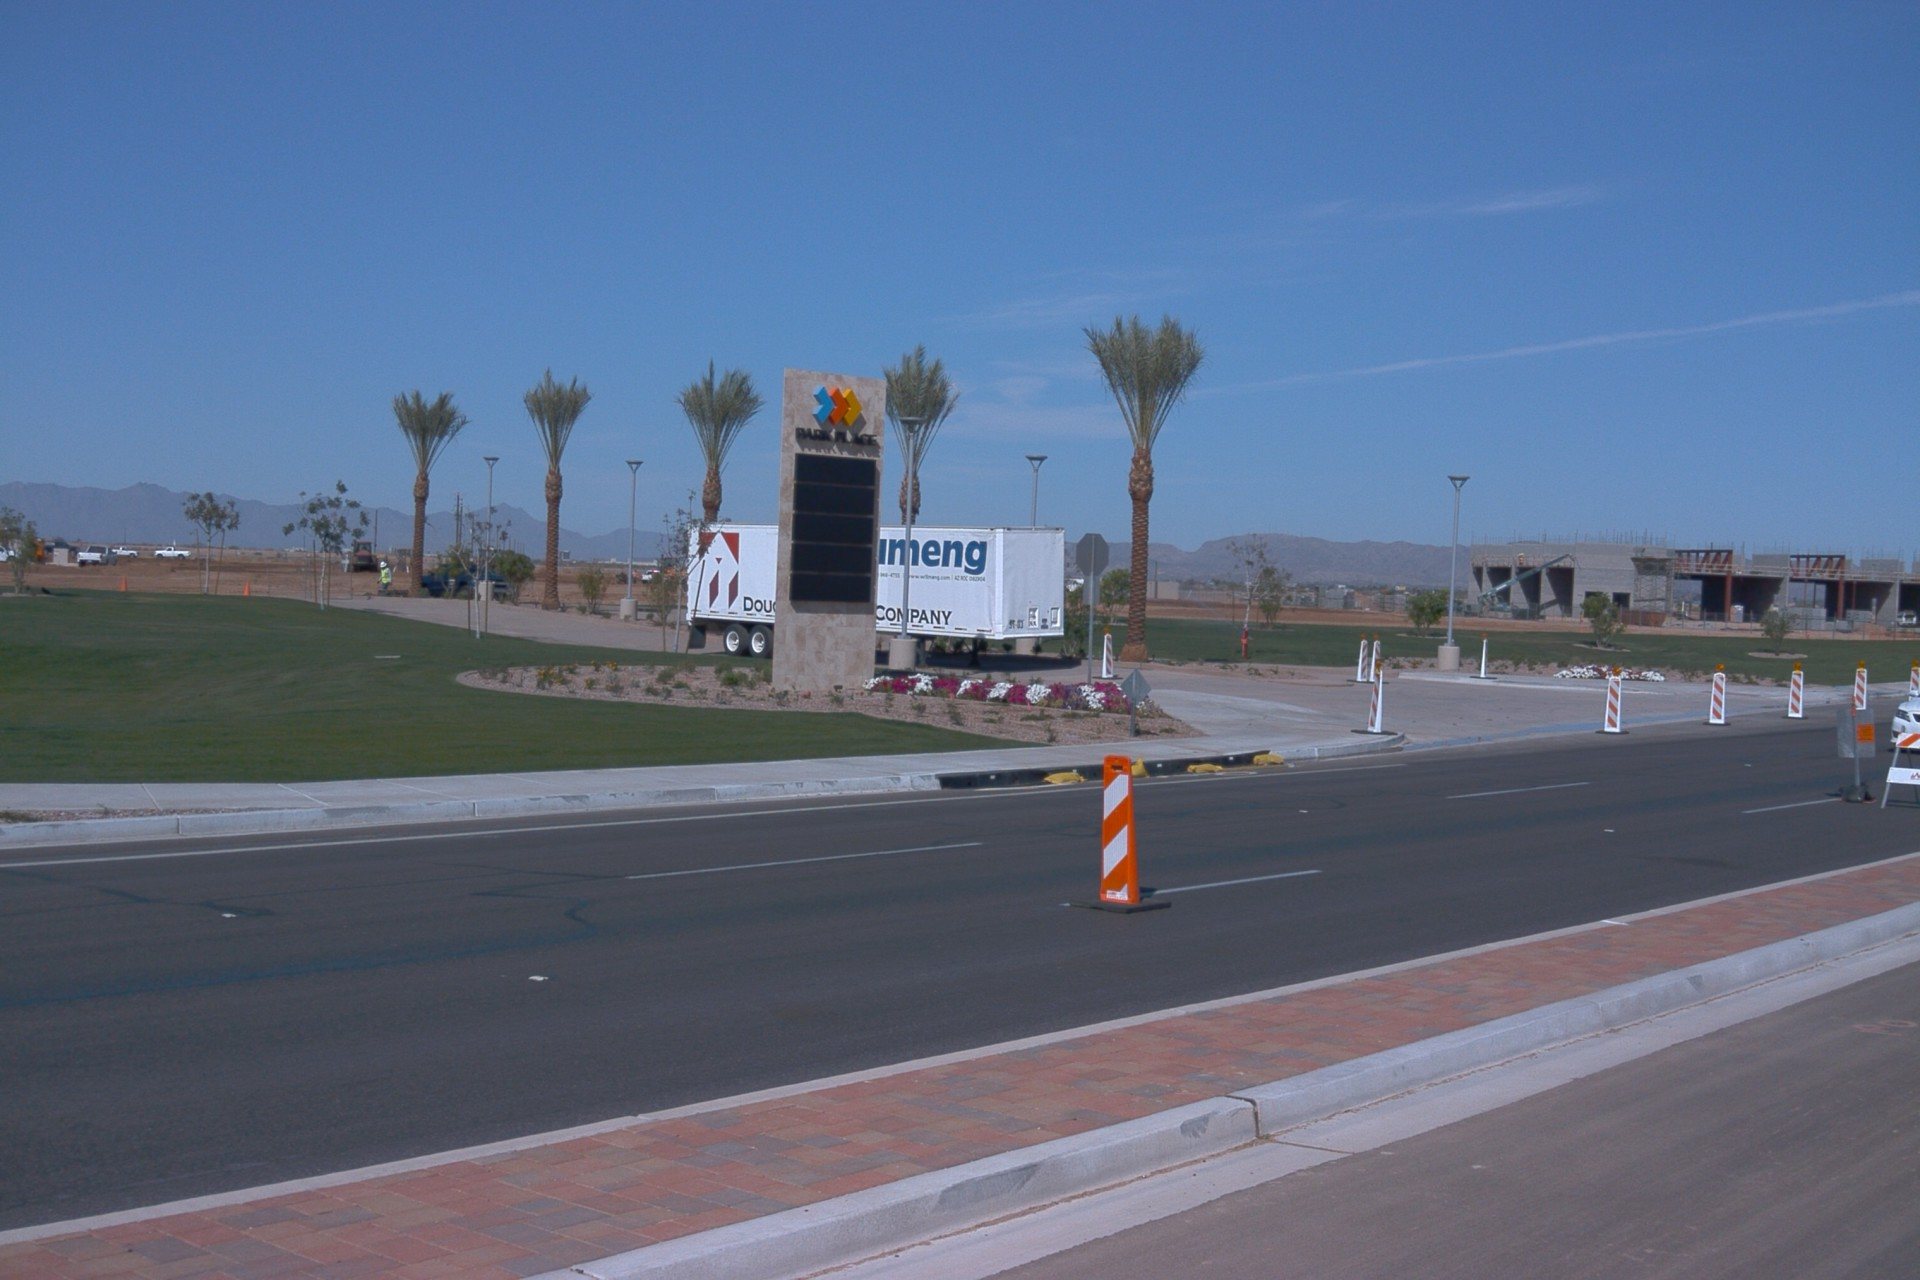TYPE_PEDESTRIAN: (375, 561, 392, 593), (632, 569, 641, 585)
TYPE_VEHICLE: (684, 511, 1071, 659), (1477, 552, 1581, 612), (421, 559, 512, 605), (1888, 687, 1920, 746), (342, 538, 375, 574), (74, 545, 121, 567), (151, 546, 194, 560), (107, 542, 141, 556), (479, 548, 500, 568), (3, 545, 25, 564), (394, 548, 413, 569), (640, 574, 661, 591)
